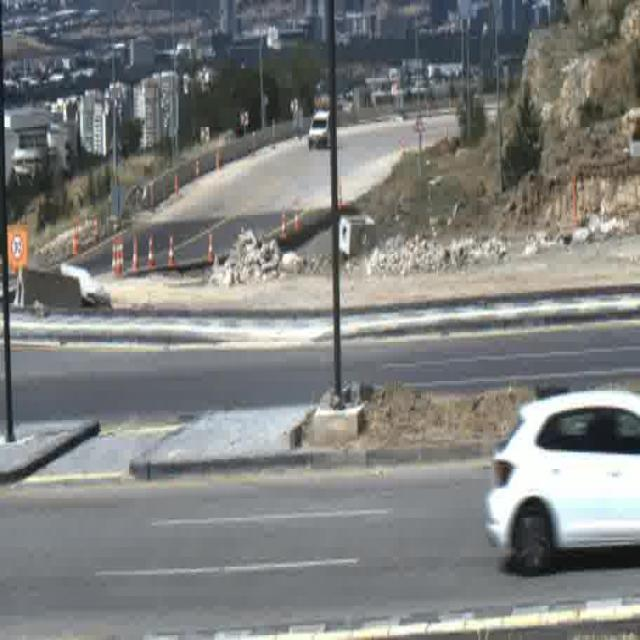Car: (483, 389, 640, 572), (308, 109, 329, 150)
